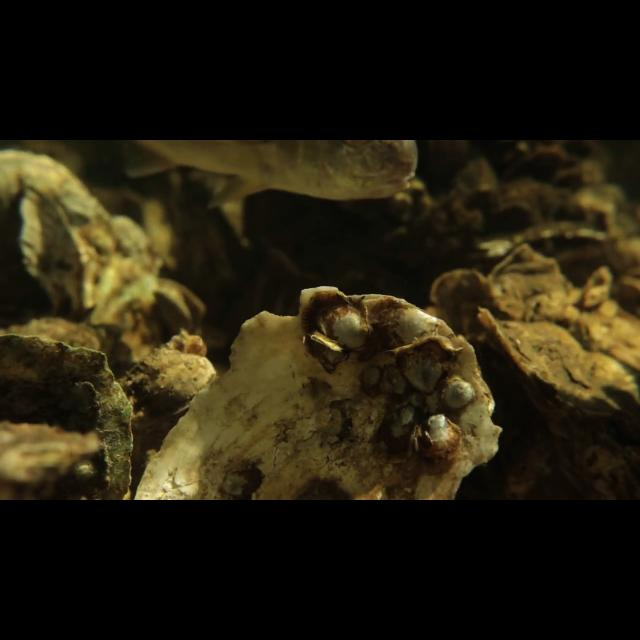Oyster-Closed: (132, 286, 504, 500), (5, 326, 146, 499), (470, 303, 640, 434), (11, 180, 95, 316)
